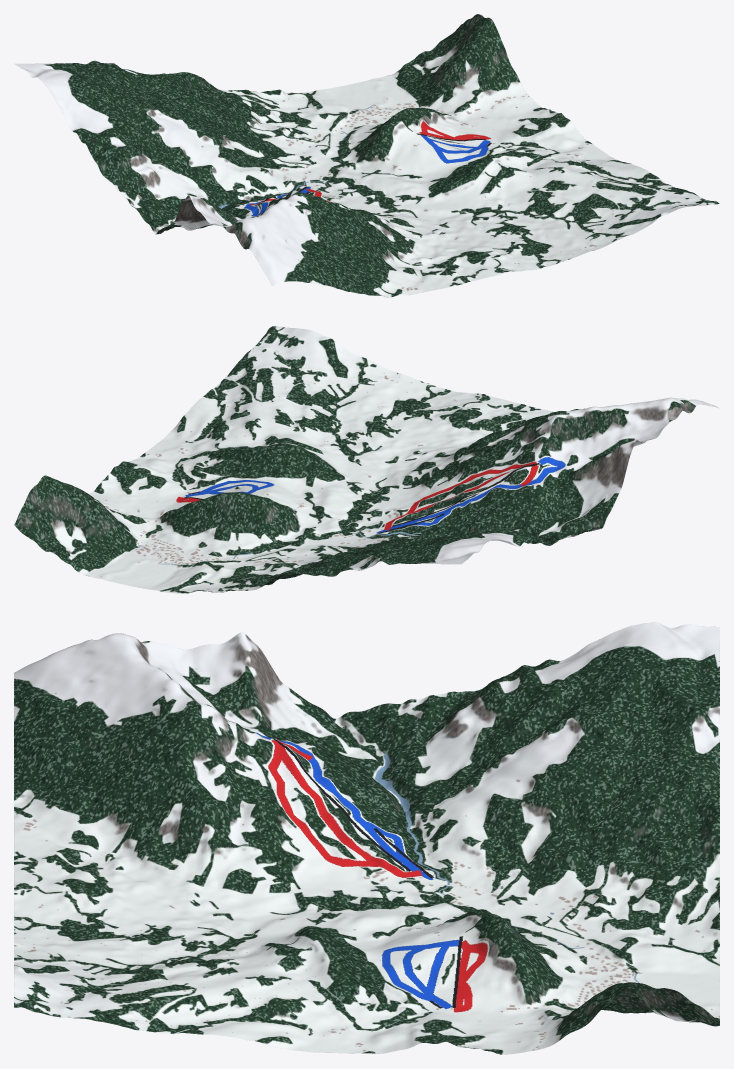
The picture shows the model from 3 angles, top to bottom: view 1: azimuth 30°, elevation 25°; view 2: azimuth 150°, elevation 25°; view 3: azimuth 270°, elevation 25°; orthographic projection. The views are drawn at different scales.
Visible parts, largest first — view 1: G1_Unterjoch.glb; view 2: G1_Unterjoch.glb; view 3: G1_Unterjoch.glb.
Boxes of the visible parts, box(x1,y1,x2,y2) form: G1_Unterjoch.glb: box(14, 14, 719, 297); G1_Unterjoch.glb: box(14, 326, 719, 593); G1_Unterjoch.glb: box(14, 622, 719, 1054).
Size of the model in its own units: 3428 by 780 by 3428.
1 material, 1 textured.
